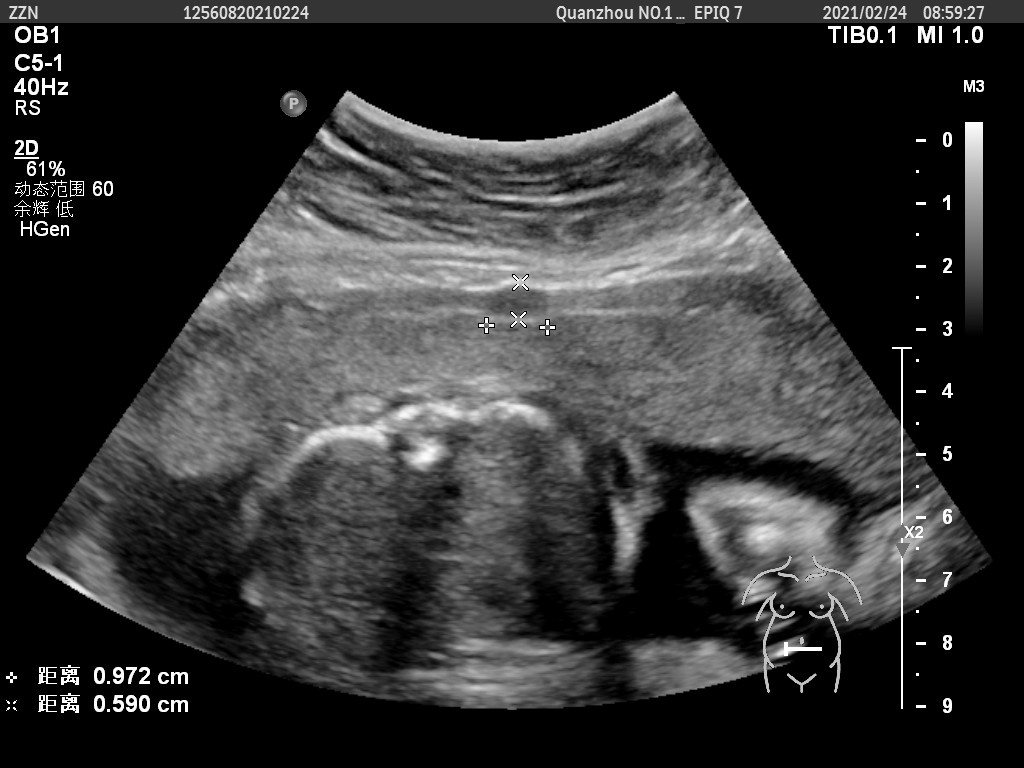肌瘤: (483, 283, 550, 330)
